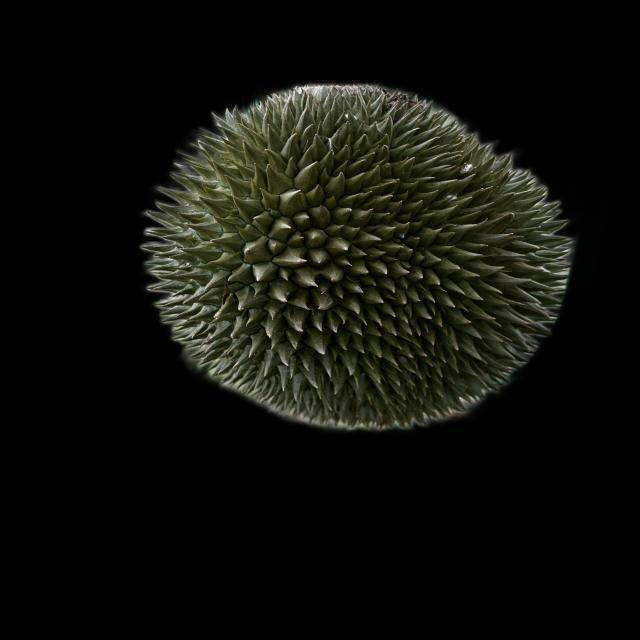immature: (136, 83, 578, 425)
